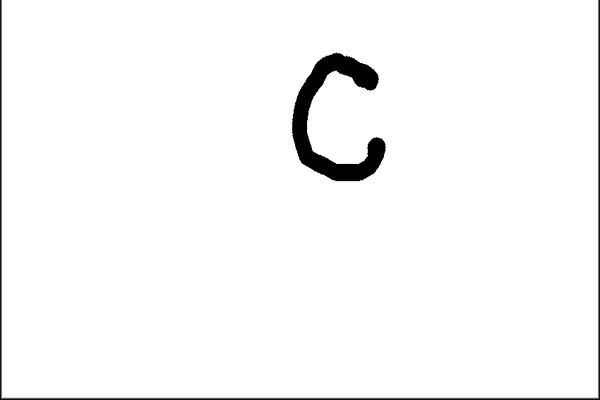C: (286, 50, 394, 183)
